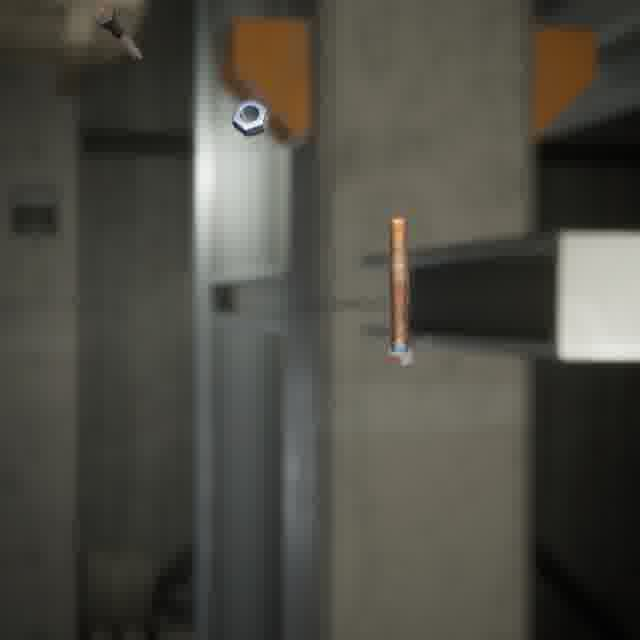bolt: (382, 209, 417, 370), (88, 0, 146, 64)
nut: (227, 94, 273, 141)
